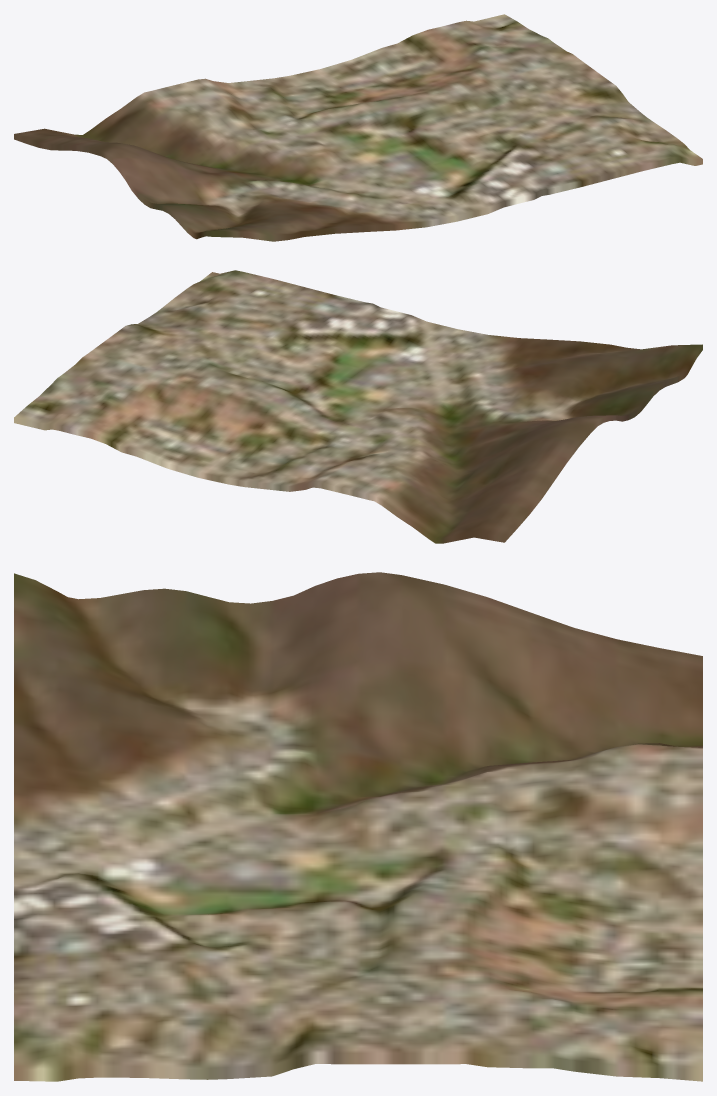
The model's file is terrain_r7_c6_lod2.glb.
3 views of the same model, one above another, from view 1: azimuth 30°, elevation 25°; view 2: azimuth 150°, elevation 25°; view 3: azimuth 270°, elevation 25° (orthographic). The views are drawn at different scales.
Visible parts, largest first — view 1: terrain_r7_c6_lod2; view 2: terrain_r7_c6_lod2; view 3: terrain_r7_c6_lod2.
Part boxes in pixels (x1,y1,x2,y2): terrain_r7_c6_lod2: [14, 14, 702, 241]; terrain_r7_c6_lod2: [14, 270, 702, 543]; terrain_r7_c6_lod2: [14, 572, 702, 1081].
Bounding box in the file's own units: 1125 × 157 × 787.
Materials: 1 (1 with a texture image).
